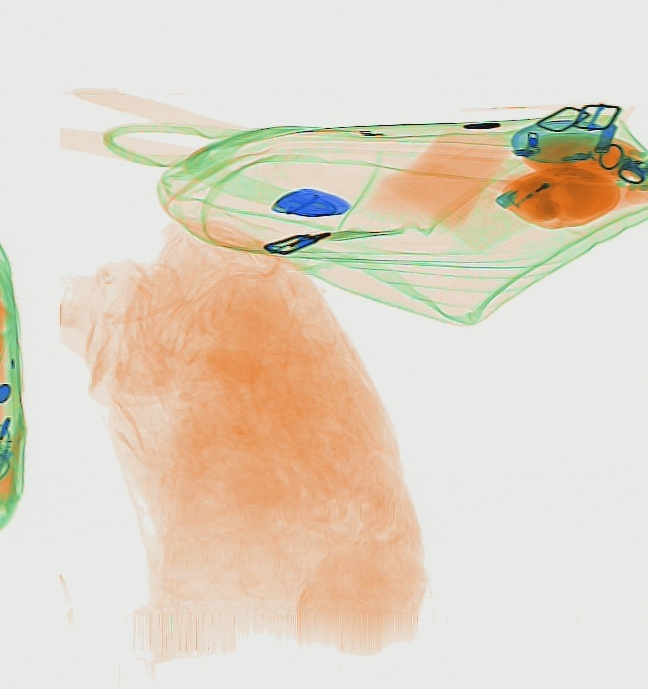lighter: (496, 161, 574, 208)
